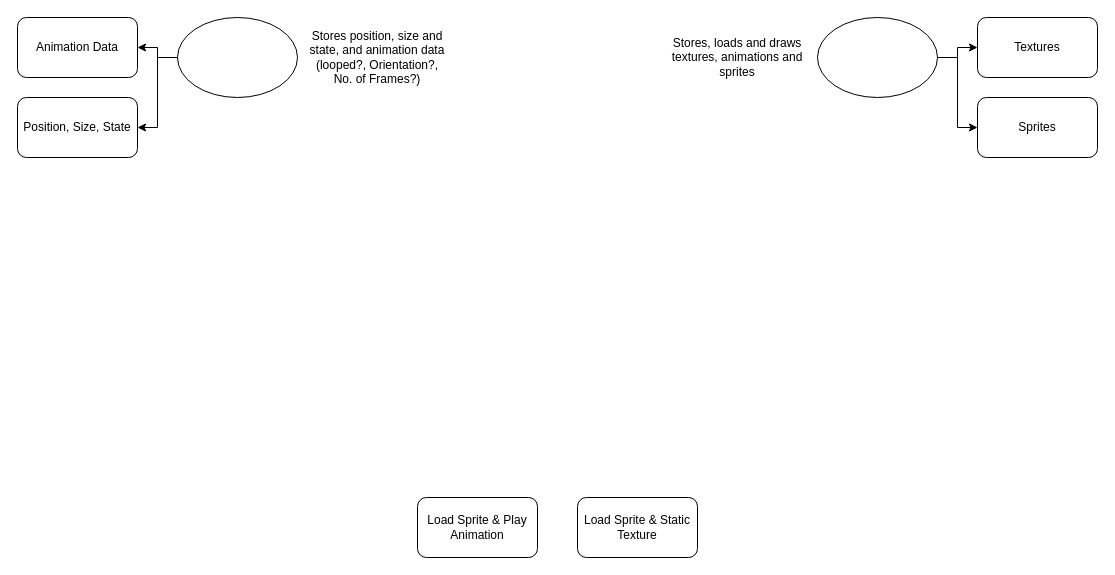
This 1115x575 diagram has some shape labels left out. Here are the shapes that lost their labels. From the top down, the box of each, then its label:
(176, 16, 298, 98): Actor
(816, 16, 938, 98): Graphics
